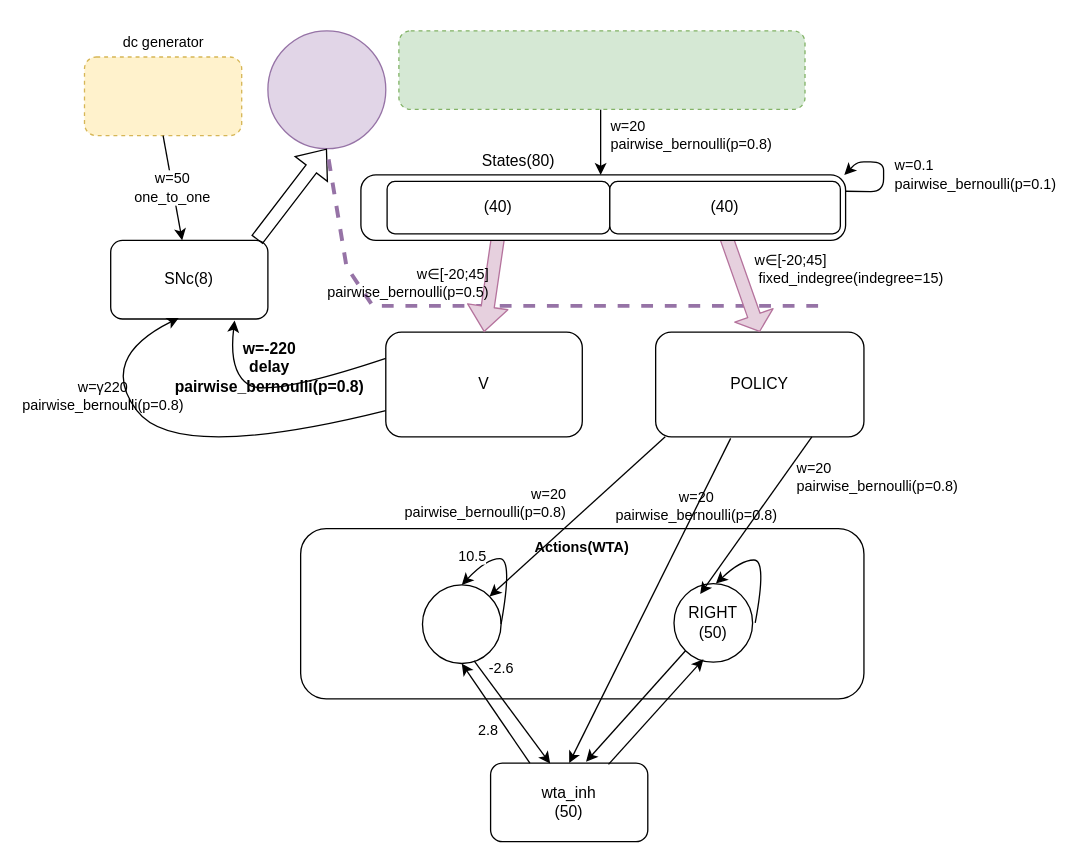
This 1078x865 diagram has some shape labels left out. The shapes that lost their labels are listed below. From the top down, each one's centre as x and y in pixels, then its label:
At (x=326, y=89): "VOLUME TRANSMITTER".
At (x=601, y=69): "INPUT dc_generator_env (8)".
At (x=162, y=96): "reward dc_generator_reward (8)".
At (x=461, y=624): "LEFT (50)".
